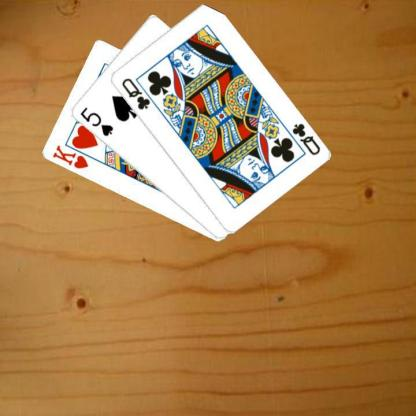5S: (77, 105, 114, 138)
KH: (50, 143, 90, 170)
QC: (119, 75, 152, 111), (289, 120, 321, 157)
